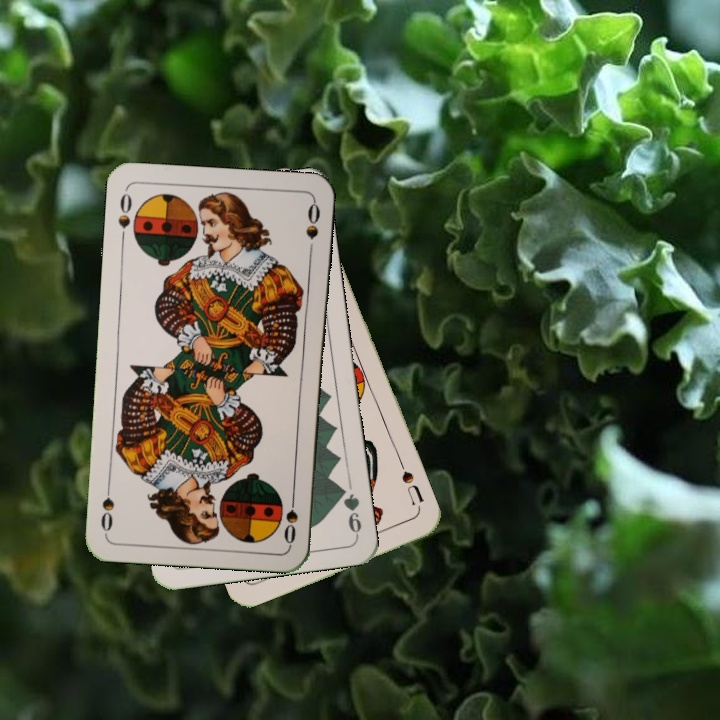G9: (335, 481, 364, 539)
SO: (114, 186, 135, 246), (280, 487, 300, 547)
SU: (397, 466, 427, 508)
